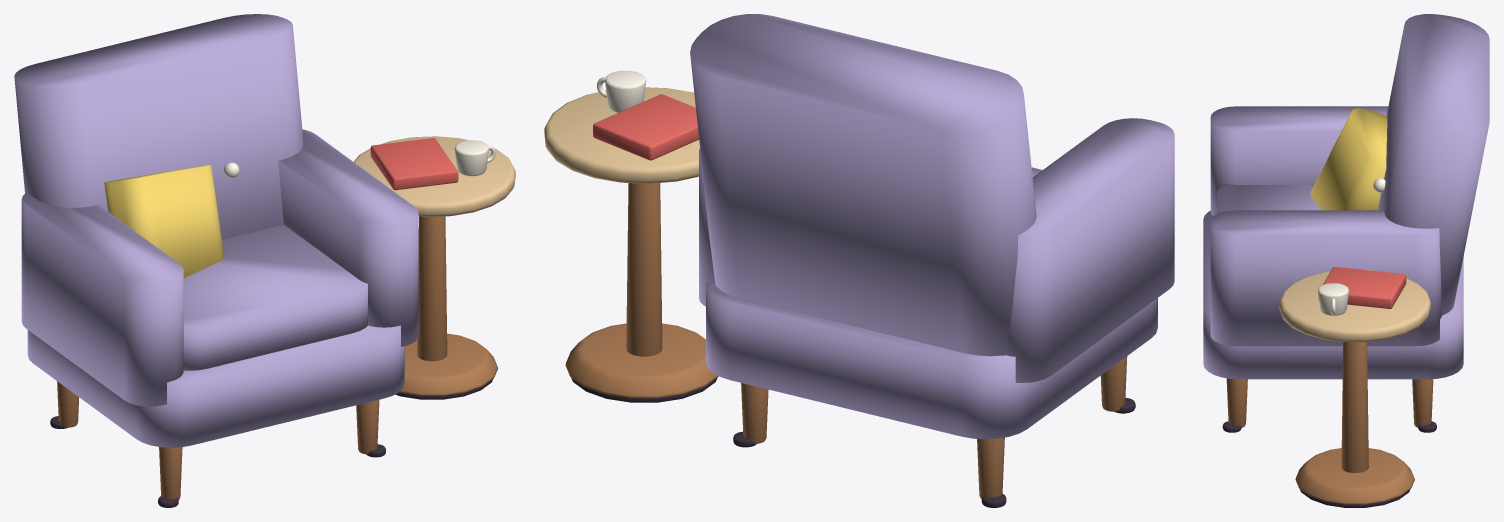
The model's file is reading-nook-armchair.glb.
The picture shows the model from 3 angles, left to right: view 1: azimuth 30°, elevation 25°; view 2: azimuth 150°, elevation 25°; view 3: azimuth 270°, elevation 25°; orthographic projection. The views are drawn at different scales.
Visible parts, largest first — view 1: LibReadingArmchair_LavenderBody, LibReadingArmchair_WoodLegsAndTable, LibReadingArmchair_ButterPillow, LibReadingArmchair_WoodLightTop, LibReadingArmchair_CoralBook, LibReadingArmchair_CreamCupAndButtons, LibReadingArmchair_SlatePads; view 2: LibReadingArmchair_LavenderBody, LibReadingArmchair_WoodLegsAndTable, LibReadingArmchair_WoodLightTop, LibReadingArmchair_CoralBook, LibReadingArmchair_CreamCupAndButtons, LibReadingArmchair_SlatePads; view 3: LibReadingArmchair_LavenderBody, LibReadingArmchair_WoodLegsAndTable, LibReadingArmchair_WoodLightTop, LibReadingArmchair_ButterPillow, LibReadingArmchair_CoralBook, LibReadingArmchair_CreamCupAndButtons, LibReadingArmchair_SlatePads.
Part boxes in pixels (x1,y1,x2,y2): LibReadingArmchair_LavenderBody: (14,14,418,447); LibReadingArmchair_WoodLegsAndTable: (57,216,497,499); LibReadingArmchair_ButterPillow: (104,164,224,278); LibReadingArmchair_WoodLightTop: (354,136,515,216); LibReadingArmchair_CoralBook: (370,138,458,190); LibReadingArmchair_CreamCupAndButtons: (224,140,495,178); LibReadingArmchair_SlatePads: (50,379,492,507); LibReadingArmchair_LavenderBody: (690,14,1174,439); LibReadingArmchair_WoodLegsAndTable: (565,183,1127,498); LibReadingArmchair_WoodLightTop: (544,87,699,183); LibReadingArmchair_CoralBook: (593,94,698,160); LibReadingArmchair_CreamCupAndButtons: (596,70,646,112); LibReadingArmchair_SlatePads: (571,378,1135,507); LibReadingArmchair_LavenderBody: (1203,14,1489,379); LibReadingArmchair_WoodLegsAndTable: (1226,342,1433,504); LibReadingArmchair_WoodLightTop: (1279,269,1430,341); LibReadingArmchair_ButterPillow: (1310,108,1387,210); LibReadingArmchair_CoralBook: (1318,267,1406,308); LibReadingArmchair_CreamCupAndButtons: (1318,178,1385,315); LibReadingArmchair_SlatePads: (1222,421,1436,507).
Bounding box in the file's own units: 1.29 × 0.9661 × 0.792.
